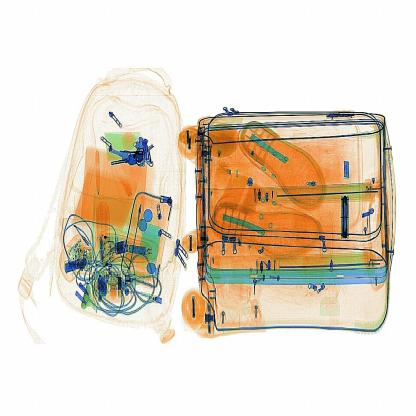scissors: (334, 194, 352, 242)
